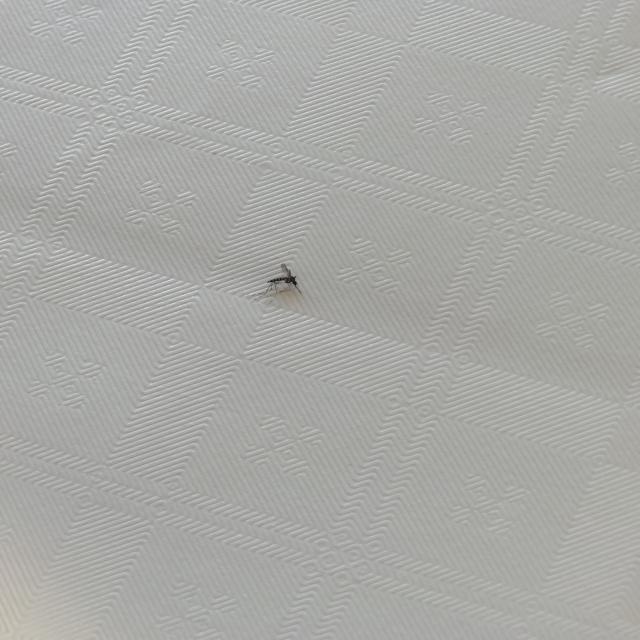albopictus: (232, 256, 316, 310)
